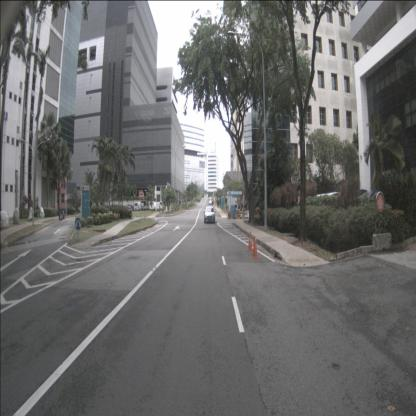cone: (251, 236, 258, 260), (246, 231, 254, 251)
